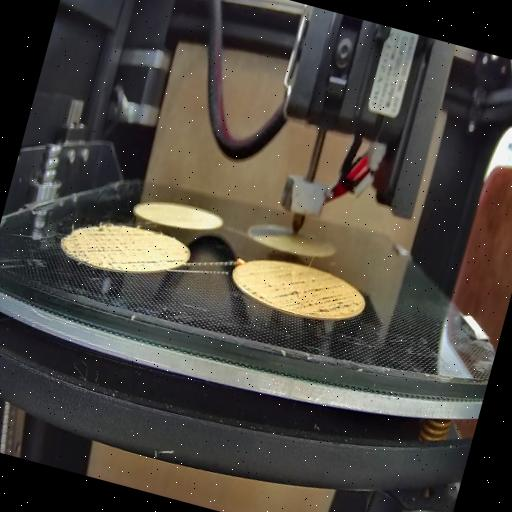under_extrusion: (64, 217, 186, 282), (239, 262, 363, 324)
